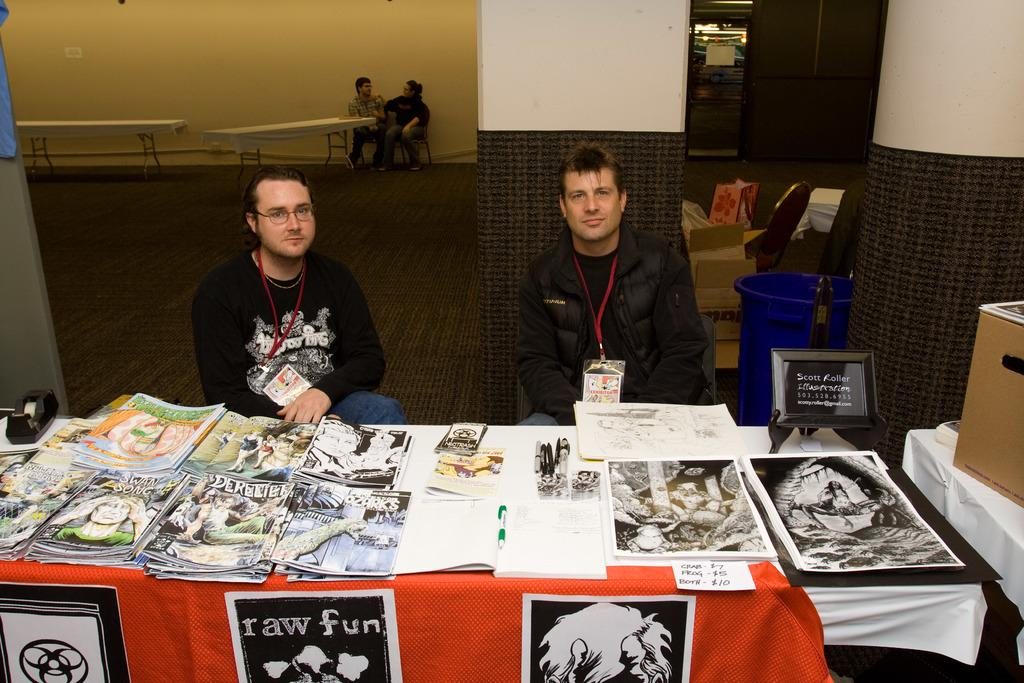Computer-monitor: (765, 345, 888, 453)
